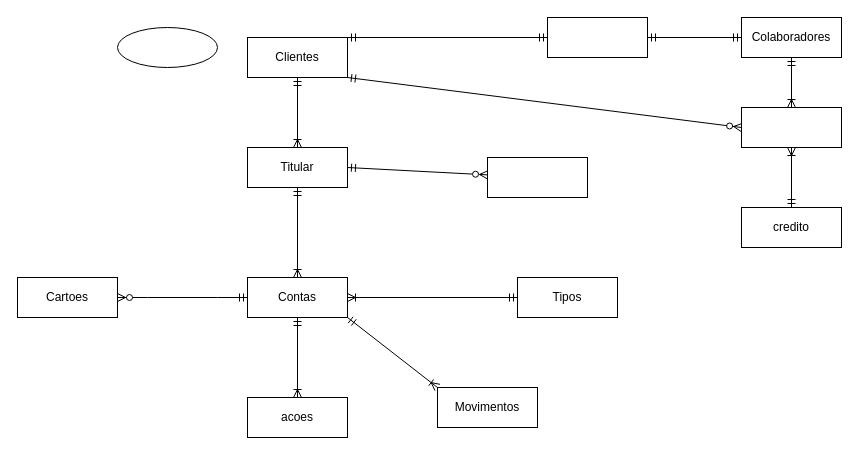
Image size: 859x455. Some labels were removed from this diagram. The shapes that lost their labels are listed below. From the top down, each one's centre as x and y in pixels, then its label:
At point (167, 47): "Attribute".
At point (597, 37): "user".
At point (791, 127): "Processos".
At point (537, 177): "Permissoes".
